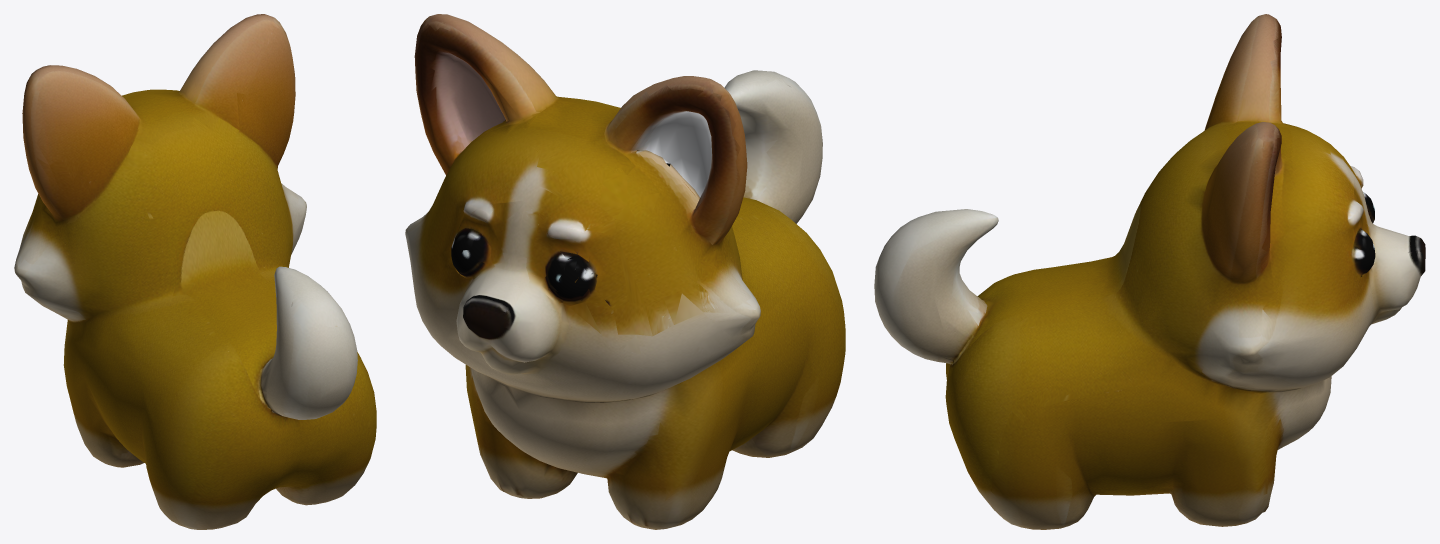
Rendered from Rapid_Corgi_1.fbx.
3 views of the same model, side by side, from view 1: azimuth 30°, elevation 25°; view 2: azimuth 150°, elevation 25°; view 3: azimuth 270°, elevation 25° (orthographic). The views are drawn at different scales.
Visible parts, largest first — view 1: tmp76kgyrgv.ply.002; view 2: tmp76kgyrgv.ply.002; view 3: tmp76kgyrgv.ply.002.
Boxes of the visible parts, x1=… form: tmp76kgyrgv.ply.002: x1=14, y1=14, x2=376, y2=529; tmp76kgyrgv.ply.002: x1=405, y1=14, x2=845, y2=529; tmp76kgyrgv.ply.002: x1=874, y1=14, x2=1425, y2=529.
Size of the model in its own units: 5.14 by 6.59 by 7.88.
1 material, 1 textured.
